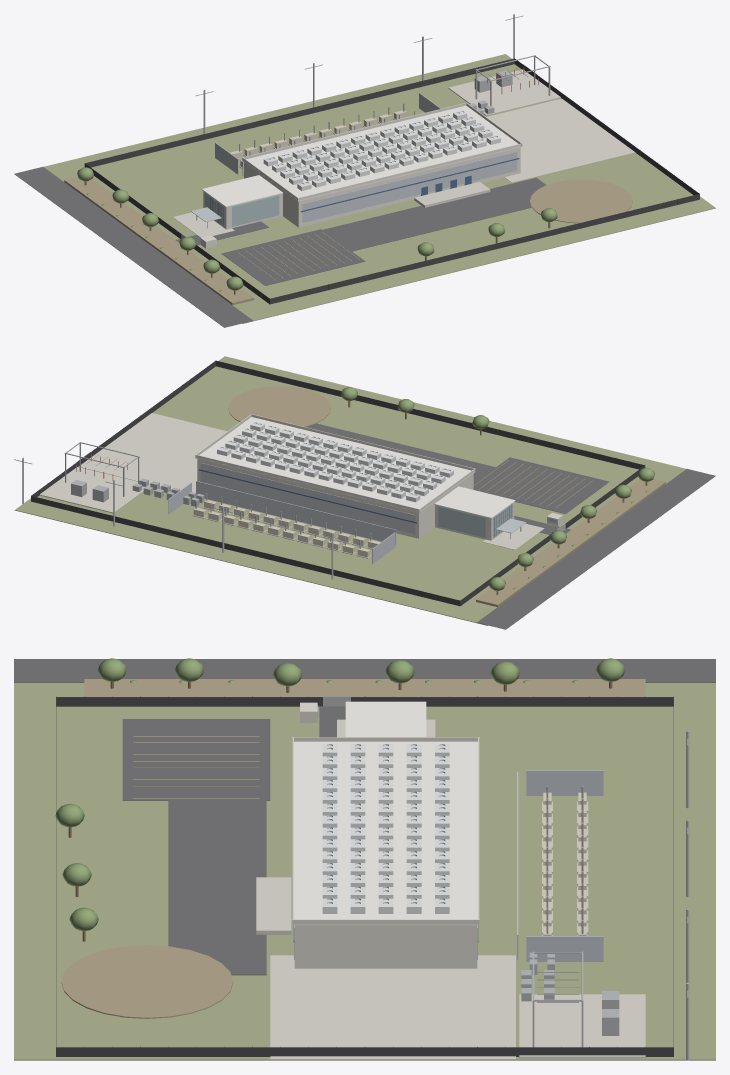
The model's file is north-texas-dc-campus.glb.
3 views of the same model, one above another, from view 1: azimuth 30°, elevation 25°; view 2: azimuth 150°, elevation 25°; view 3: azimuth 270°, elevation 25° (orthographic). The views are drawn at different scales.
Visible parts, largest first — view 1: Lot_PrairieGrass, Roof_DryCoolers, PerimeterFence, ExpansionPad_Building2, ParkVista_Boulevard, ServiceApron, DataHall_TPORoof, StaffParking, DataHall_IMPCladding, StreetBerm_West, DetentionBank, DataHall_TiltWall (+11 smaller); view 2: Lot_PrairieGrass, Roof_DryCoolers, PerimeterFence, ParkVista_Boulevard, ExpansionPad_Building2, DataHall_TPORoof, DataHall_IMPCladding, StaffParking, GeneratorYard_ScreenWall, StreetBerm_West, DetentionBank, GeneratorYard_Enclosures (+14 smaller); view 3: Lot_PrairieGrass, ExpansionPad_Building2, DataHall_TPORoof, ServiceApron, Roof_DryCoolers, PerimeterFence, ParkVista_Boulevard, StaffParking, DetentionBank, StreetBerm_West, DataHall_TiltWall, Substation_Pad (+14 smaller).
Part boxes in pixels (x1,y1,x2,y2): Lot_PrairieGrass: (43, 54, 715, 323); Roof_DryCoolers: (263, 110, 500, 190); PerimeterFence: (85, 58, 699, 304); ExpansionPad_Building2: (486, 98, 635, 182); ParkVista_Boulevard: (14, 167, 253, 327); ServiceApron: (300, 177, 546, 256); DataHall_TPORoof: (242, 105, 522, 201); StaffParking: (221, 229, 365, 285); DataHall_IMPCladding: (302, 151, 517, 222); StreetBerm_West: (64, 176, 254, 305); DetentionBank: (529, 179, 632, 223); DataHall_TiltWall: (244, 147, 520, 227); Lot_PrairieGrass: (14, 356, 685, 625); Roof_DryCoolers: (217, 422, 453, 502); PerimeterFence: (31, 360, 645, 606); ParkVista_Boulevard: (477, 469, 715, 629); ExpansionPad_Building2: (78, 413, 226, 492); DataHall_TPORoof: (195, 417, 474, 512); DataHall_IMPCladding: (200, 463, 415, 534); StaffParking: (473, 457, 609, 513); GeneratorYard_ScreenWall: (168, 481, 396, 564); StreetBerm_West: (476, 479, 665, 606); DetentionBank: (228, 386, 330, 426); GeneratorYard_Enclosures: (193, 500, 380, 557); Lot_PrairieGrass: (14, 683, 715, 1060); ExpansionPad_Building2: (270, 955, 515, 1059); DataHall_TPORoof: (292, 741, 479, 925); ServiceApron: (168, 782, 266, 975); Roof_DryCoolers: (322, 744, 449, 913); PerimeterFence: (56, 697, 673, 1056); ParkVista_Boulevard: (14, 659, 715, 682); StaffParking: (122, 719, 270, 800); DetentionBank: (61, 945, 233, 1018); StreetBerm_West: (84, 679, 645, 696); DataHall_TiltWall: (294, 925, 477, 968); Substation_Pad: (519, 994, 645, 1058).
Size of the model in its own units: 275 by 24.5 by 200.
